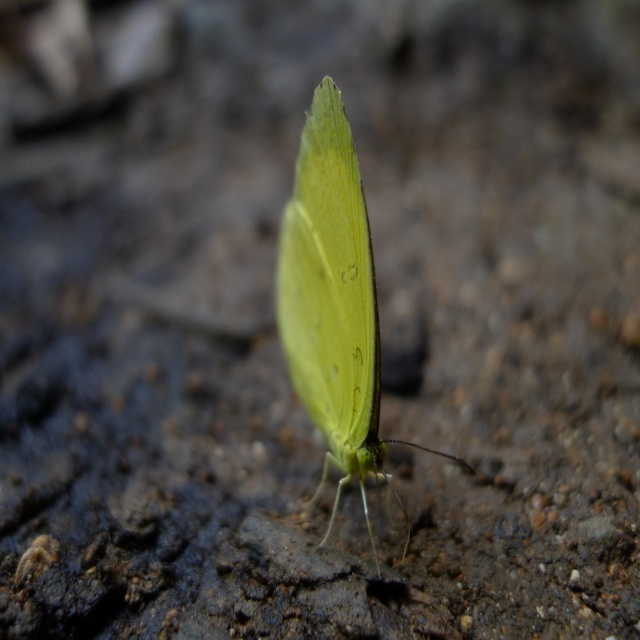Butterfly: (276, 74, 473, 580)
